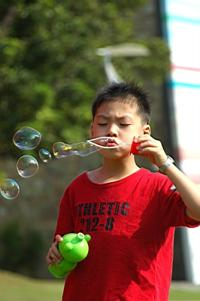person: (46, 83, 200, 301)
